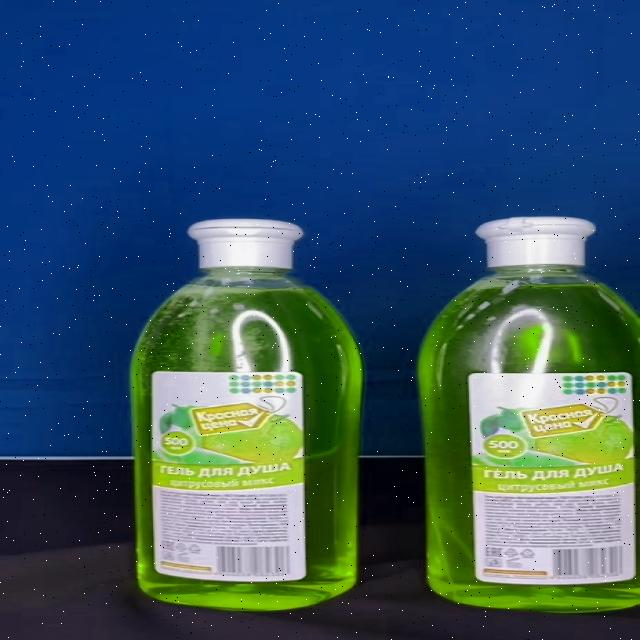Bottle: (131, 219, 364, 612), (419, 217, 640, 612)
Cap: (186, 220, 306, 270), (476, 217, 593, 266)
